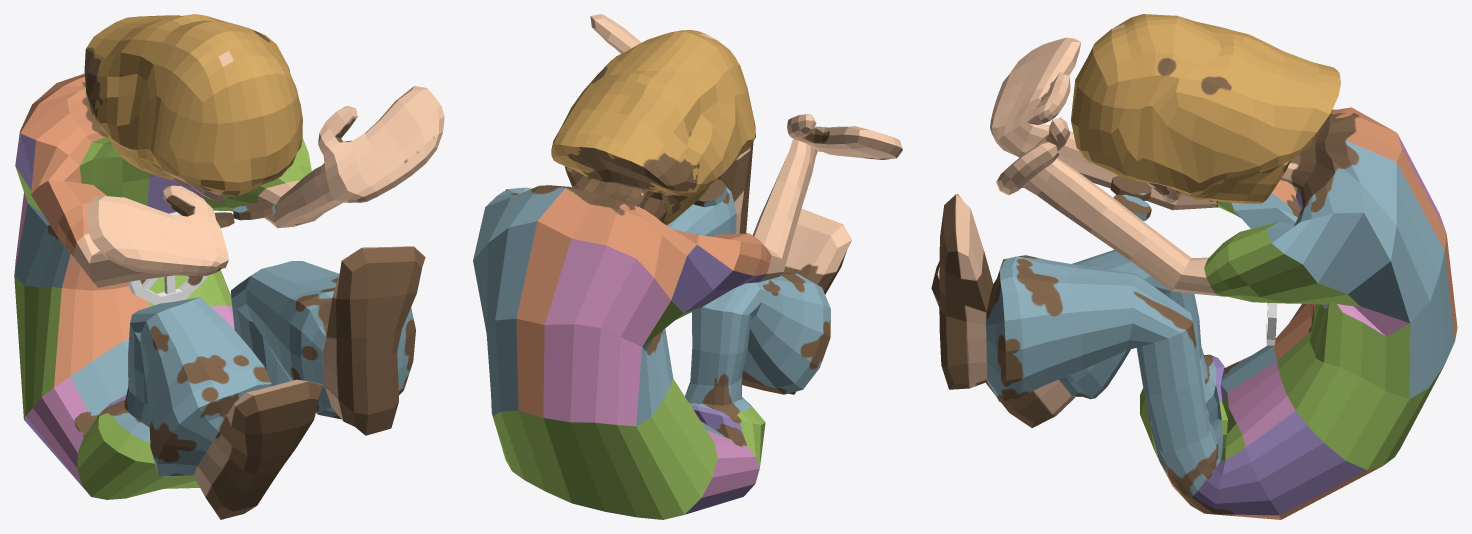
File: PT_char_001.FBX
The picture shows the model from 3 angles, left to right: view 1: azimuth 30°, elevation 25°; view 2: azimuth 150°, elevation 25°; view 3: azimuth 270°, elevation 25°; orthographic projection. The views are drawn at different scales.
Parts seen in each view (by area): view 1: Box011; view 2: Box011; view 3: Box011.
Boxes of the visible parts, <box> form: Box011: <box>14,14,444,519</box>; Box011: <box>473,14,902,519</box>; Box011: <box>931,14,1457,519</box>.
Bounding box in the file's own units: 7.15 × 9.71 × 9.57.
Materials: 1 (1 with a texture image).
